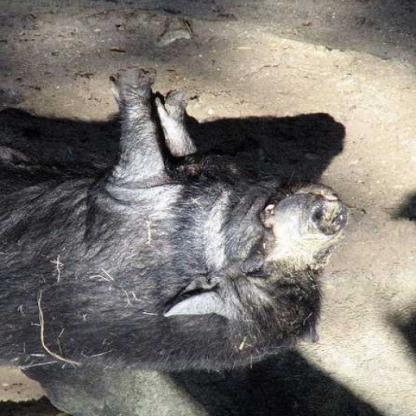boar: (7, 100, 341, 389)
